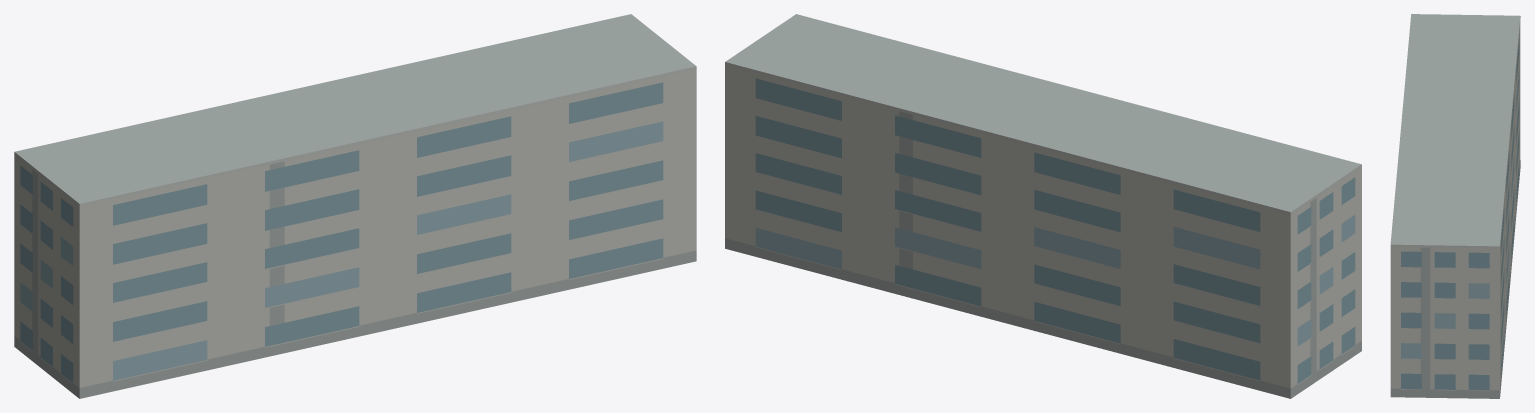
Rendered from residential-07202b38-8a8e-45ad-9aeb-5ce3eaf422fe.glb.
3 views of the same model, side by side, from view 1: azimuth 30°, elevation 25°; view 2: azimuth 150°, elevation 25°; view 3: azimuth 270°, elevation 25° (orthographic). The views are drawn at different scales.
Parts seen in each view (by area): view 1: residential-07202b38-8a8e-45ad-9aeb-5ce3eaf422fe.tmp; view 2: residential-07202b38-8a8e-45ad-9aeb-5ce3eaf422fe.tmp; view 3: residential-07202b38-8a8e-45ad-9aeb-5ce3eaf422fe.tmp.
Boxes of the visible parts, box(x1,y1,x2,y2) form: residential-07202b38-8a8e-45ad-9aeb-5ce3eaf422fe.tmp: box(14, 14, 696, 398); residential-07202b38-8a8e-45ad-9aeb-5ce3eaf422fe.tmp: box(725, 14, 1361, 398); residential-07202b38-8a8e-45ad-9aeb-5ce3eaf422fe.tmp: box(1390, 14, 1520, 398).
Size of the model in its own units: 49.8 by 15.25 by 11.78.
